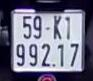1: (64, 14, 71, 42), (56, 44, 63, 67)
2: (41, 43, 51, 67)
5: (21, 15, 33, 40)
7: (68, 42, 79, 68)
9: (27, 43, 39, 69), (14, 43, 26, 68), (33, 14, 44, 41)
K: (52, 14, 62, 41)
